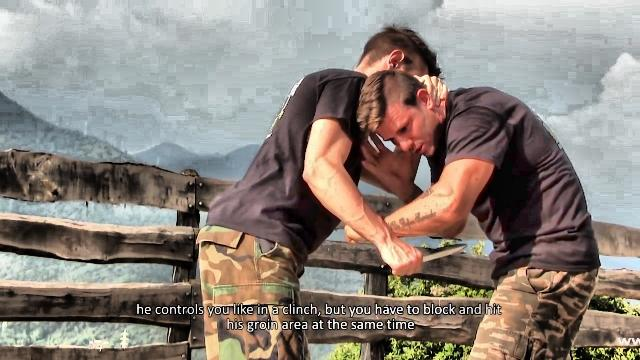knife: (378, 238, 470, 280)
